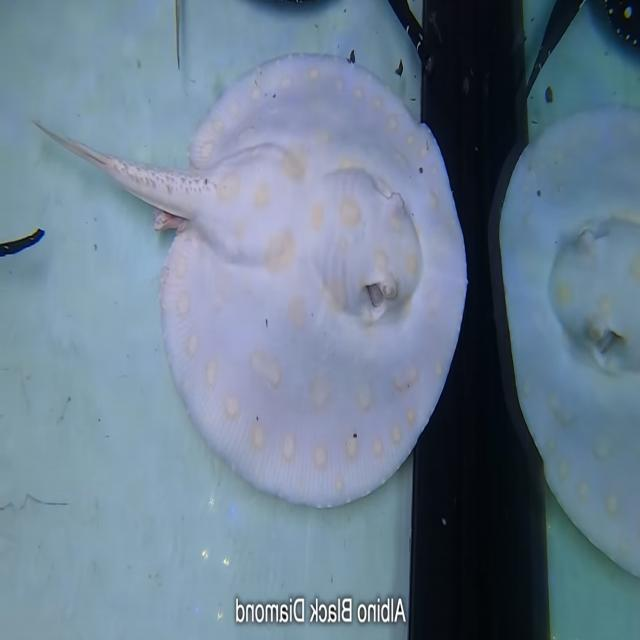albino-sting-ray: (32, 29, 481, 531)
